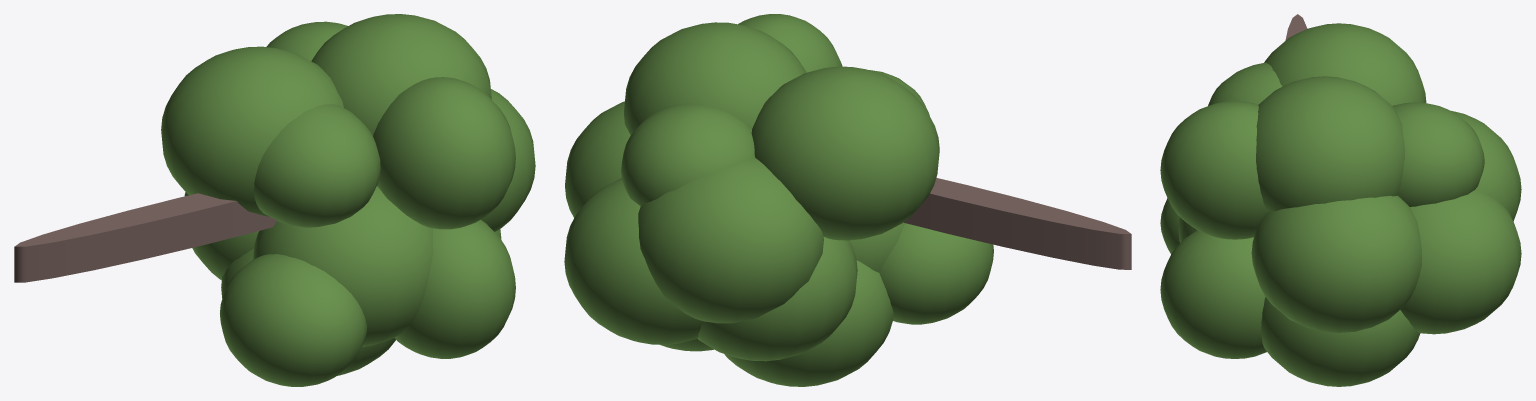
File: arbol.fbx
3 views of the same model, side by side, from view 1: azimuth 30°, elevation 25°; view 2: azimuth 150°, elevation 25°; view 3: azimuth 270°, elevation 25° (orthographic). The views are drawn at different scales.
Parts seen in each view (by area): view 1: pSphere18; view 2: pSphere18; view 3: pSphere18.
Boxes of the visible parts, x1,y1,x2,y2 form: pSphere18: (14, 14, 535, 386); pSphere18: (564, 14, 1131, 386); pSphere18: (1160, 14, 1521, 386).
Bounding box in the file's own units: 24.29 × 14.2 × 15.49.
